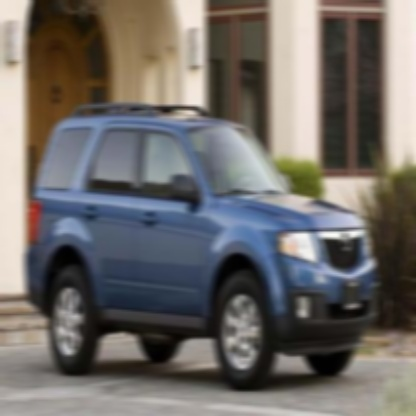Vehicle: (25, 104, 380, 390)
